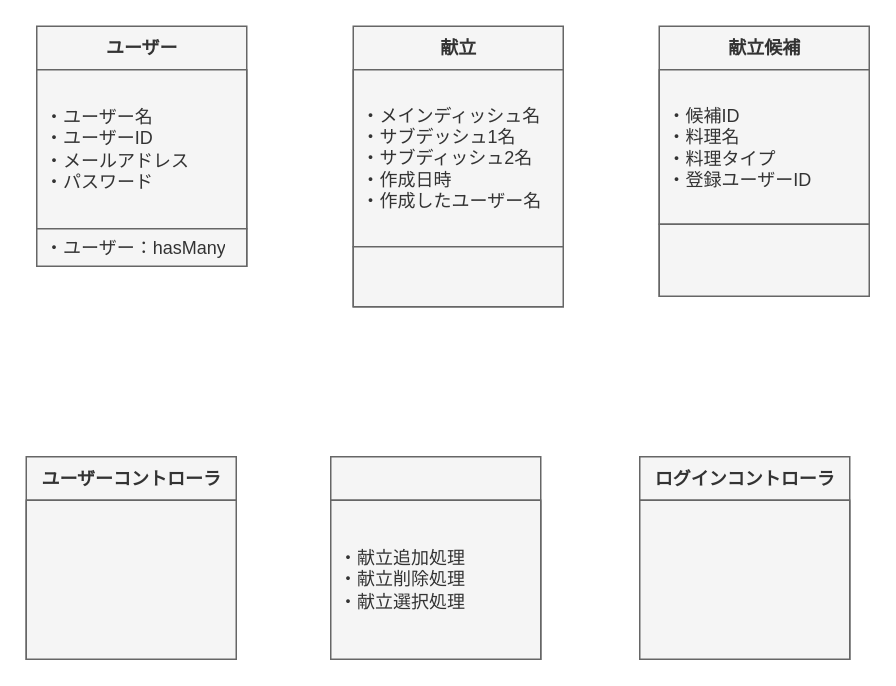
This 896x686 diagram has some shape labels left out. The shapes that lost their labels are listed below. From the top down, each one's box as (x1, y1, x2, y2) in pixels, then its label:
(352, 245, 563, 307): ・ユーザー：belongs To ・献立：hasMany
(658, 223, 869, 296): ユーザー：belongs To 献立候補；hasMany
(329, 455, 541, 659): 献立コントローラ
(25, 499, 236, 659): ・ダッシュボード画面 ・TOP画面 ・献立DB追加ページ ・献立DB削除ページ
(638, 499, 850, 659): ・ログイン画面表示 ・ログイン処理 ・ログアウト処理 ・サインアップ処理
